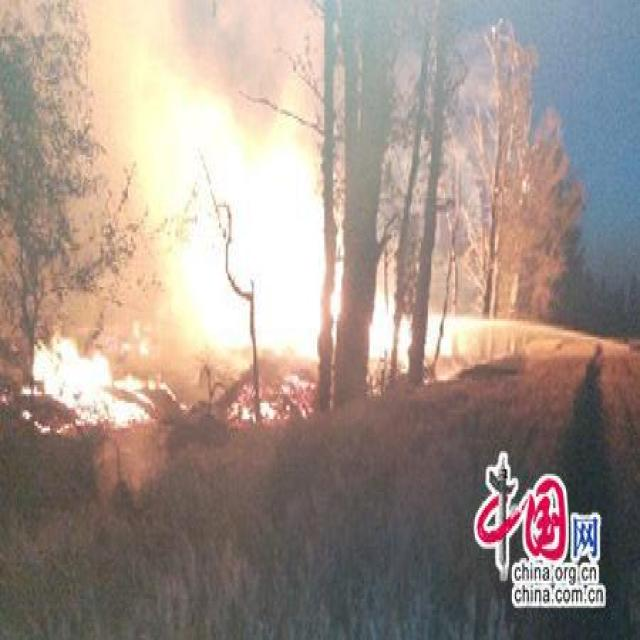fire: (0, 2, 567, 460)
